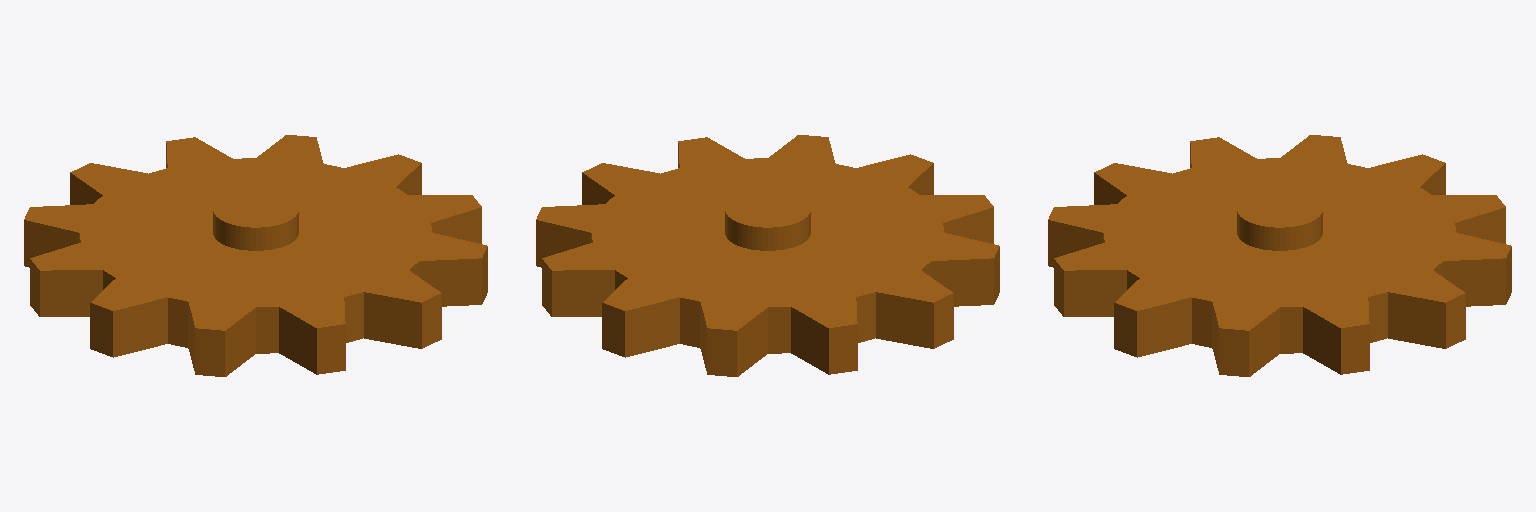
The model's file is CogModel.obj.
The picture shows the model from 3 angles: view 1: azimuth 30°, elevation 25°; view 2: azimuth 150°, elevation 25°; view 3: azimuth 270°, elevation 25°; orthographic projection.
Visible parts, largest first — view 1: Cylinder001; view 2: Cylinder001; view 3: Cylinder001.
Boxes of the visible parts, box(x1,y1,x2,y2) form: Cylinder001: box(24, 135, 487, 376); Cylinder001: box(536, 135, 999, 376); Cylinder001: box(1048, 135, 1511, 376).
Bounding box in the file's own units: 1.13 × 0.25 × 1.13.